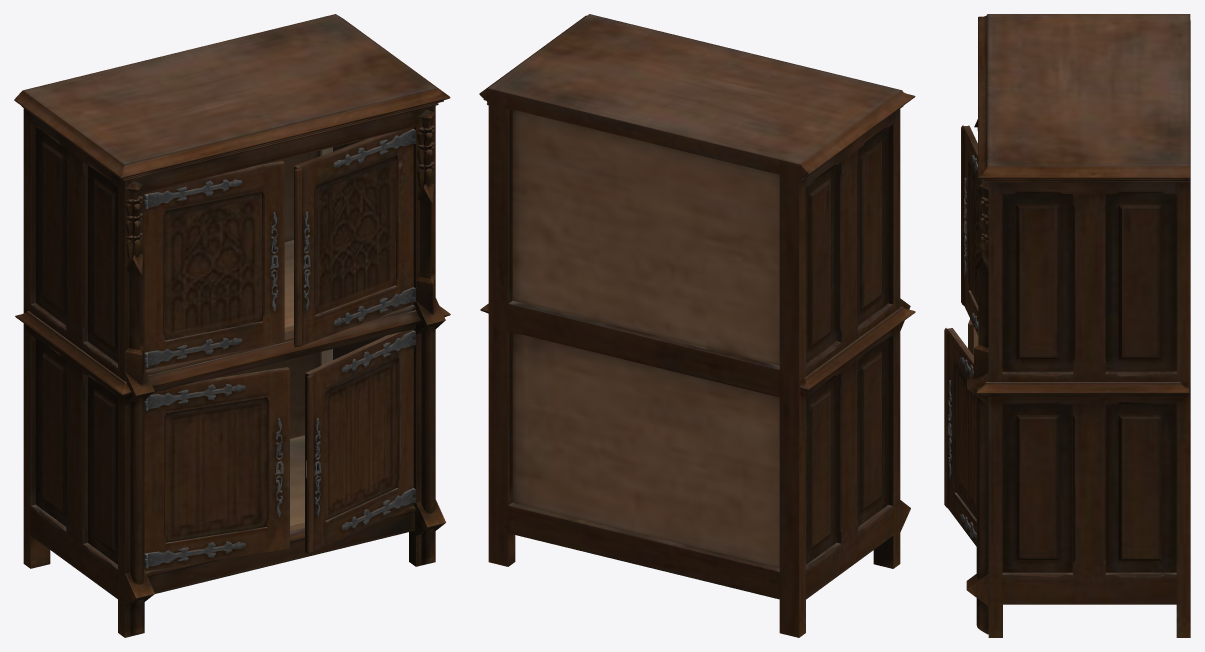
The model's file is GothicCabinet_01.glb.
3 views of the same model, side by side, from view 1: azimuth 30°, elevation 25°; view 2: azimuth 150°, elevation 25°; view 3: azimuth 270°, elevation 25° (orthographic).
Parts seen in each view (by area): view 1: GothicCabinet_01_cabinet, GothicCabinet_01_door3, GothicCabinet_01_door1, GothicCabinet_01_door2, GothicCabinet_01_door4; view 2: GothicCabinet_01_cabinet; view 3: GothicCabinet_01_cabinet, GothicCabinet_01_door4, GothicCabinet_01_door2.
Boxes of the visible parts, bbox=[...] form: GothicCabinet_01_cabinet: bbox=[14, 14, 450, 637]; GothicCabinet_01_door3: bbox=[144, 367, 289, 571]; GothicCabinet_01_door1: bbox=[144, 160, 284, 369]; GothicCabinet_01_door2: bbox=[294, 127, 415, 347]; GothicCabinet_01_door4: bbox=[305, 329, 415, 554]; GothicCabinet_01_cabinet: bbox=[479, 14, 915, 637]; GothicCabinet_01_cabinet: bbox=[966, 14, 1190, 637]; GothicCabinet_01_door4: bbox=[944, 328, 976, 546]; GothicCabinet_01_door2: bbox=[961, 125, 988, 335].
Bounding box in the file's own units: 1.72 × 2.36 × 1.12.
Materials: 1 (1 with a texture image).
